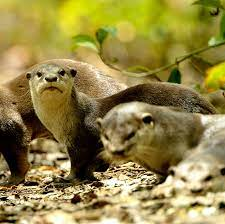otter: (22, 59, 223, 127), (92, 99, 225, 189)
